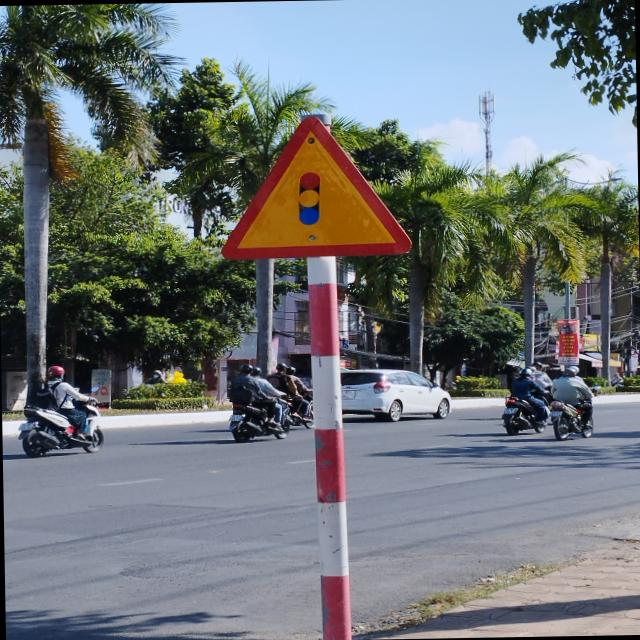Duong_Co_Go_Giam_Toc: (218, 113, 410, 260)
